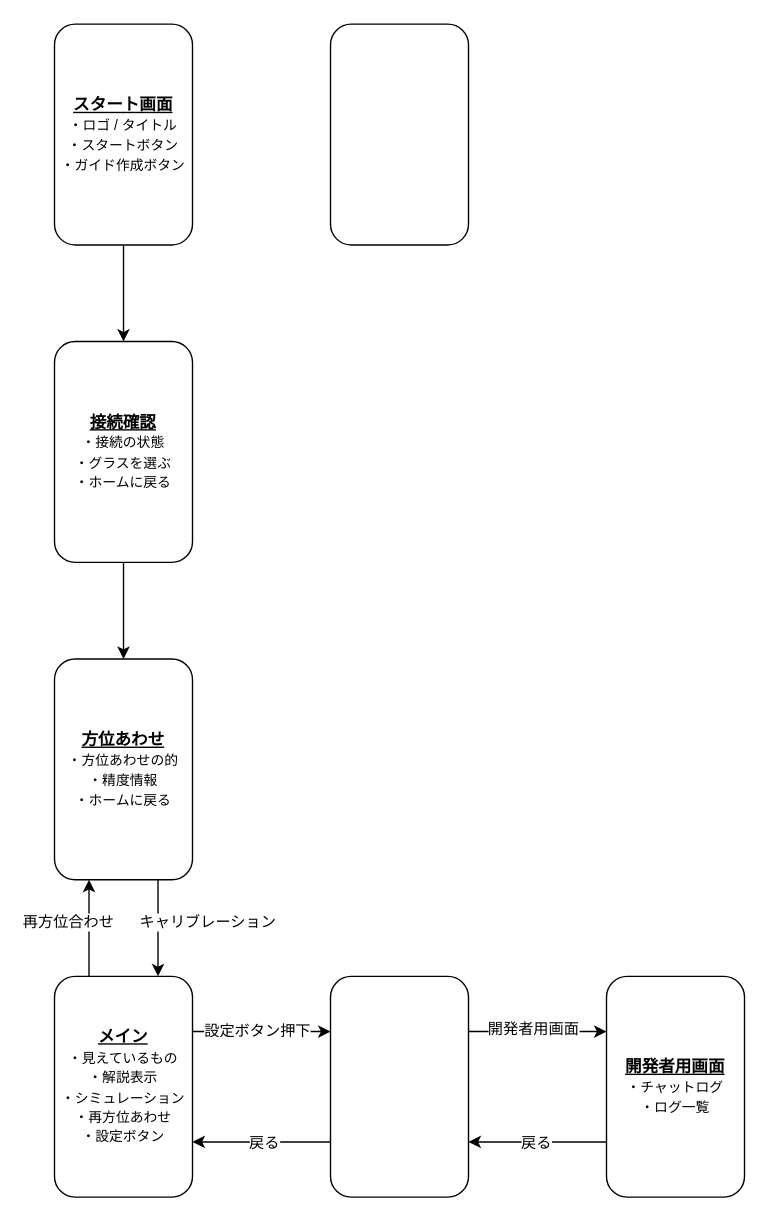
This 769x1221 diagram has some shape labels left out. Here are the shapes that lost their labels. From the top down, the box of each, then its label:
(329, 23, 469, 245): ガイド作成
(329, 975, 469, 1197): 設定 ・見え方 ・SABERAの明るさ ・BGM音量調整 ・ログを見る ・出典、ライセンス
